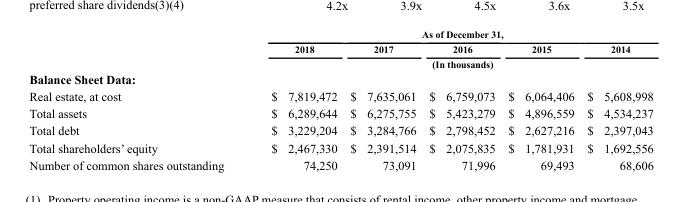table: (28, 28, 652, 171)
table column: (28, 28, 246, 171), (246, 28, 343, 171), (343, 28, 422, 171), (422, 28, 501, 171), (501, 28, 580, 171), (580, 28, 652, 171)
table column header: (28, 28, 652, 70)
table projected row header: (28, 70, 652, 87)
table row: (28, 138, 652, 156), (28, 70, 652, 87), (28, 87, 652, 104), (28, 104, 652, 121), (28, 121, 652, 138), (28, 41, 652, 56), (28, 156, 652, 171), (28, 56, 652, 70), (28, 28, 652, 41)
table spanning cell: (246, 56, 652, 70), (246, 28, 652, 41)
